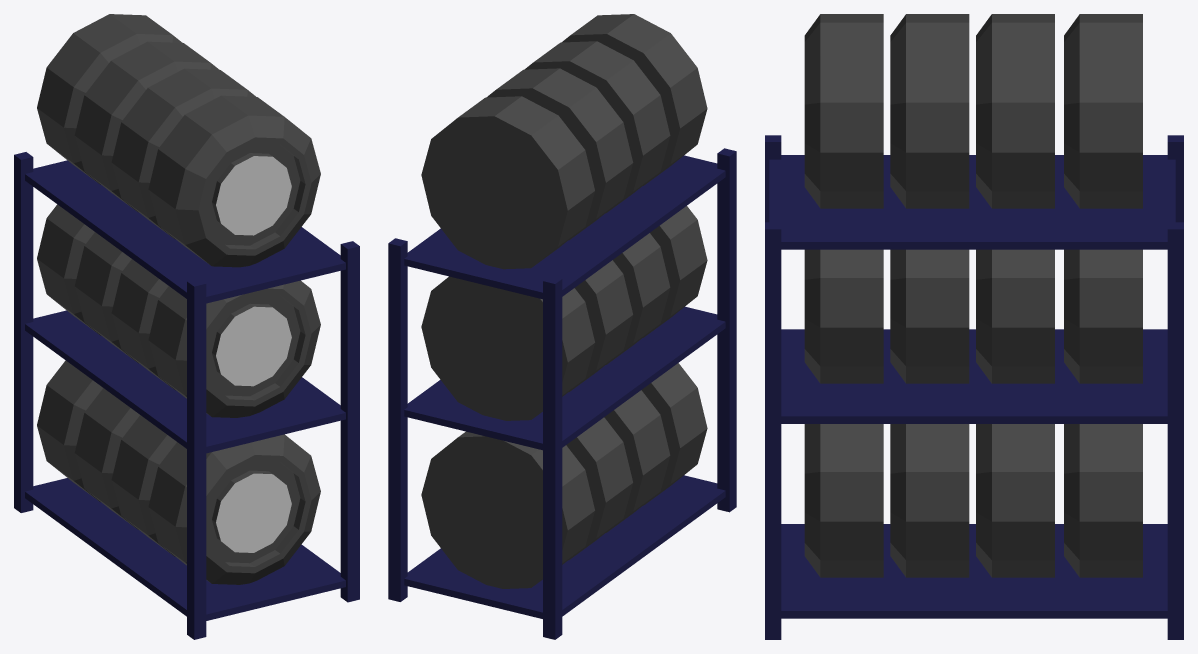
Rendered from TireShelves.fbx.
3 views of the same model, side by side, from view 1: azimuth 30°, elevation 25°; view 2: azimuth 150°, elevation 25°; view 3: azimuth 270°, elevation 25° (orthographic). The views are drawn at different scales.
Visible parts, largest first — view 1: group3_pasted__group_pasted__pasted__wheelbl1_pasted__pasted; view 2: group3_pasted__group_pasted__pasted__wheelbl1_pasted__pasted; view 3: group3_pasted__group_pasted__pasted__wheelbl1_pasted__pasted.
Part boxes in pixels (x1,y1,x2,y2): group3_pasted__group_pasted__pasted__wheelbl1_pasted__pasted: (14,14,359,639); group3_pasted__group_pasted__pasted__wheelbl1_pasted__pasted: (388,14,736,639); group3_pasted__group_pasted__pasted__wheelbl1_pasted__pasted: (765,14,1183,639).
Size of the model in its own units: 10.32 by 29.02 by 19.42.
